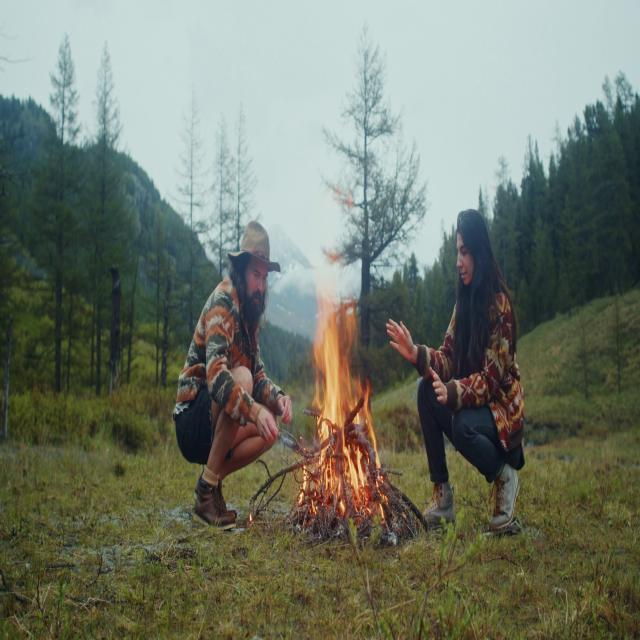Fire: (286, 286, 391, 508)
